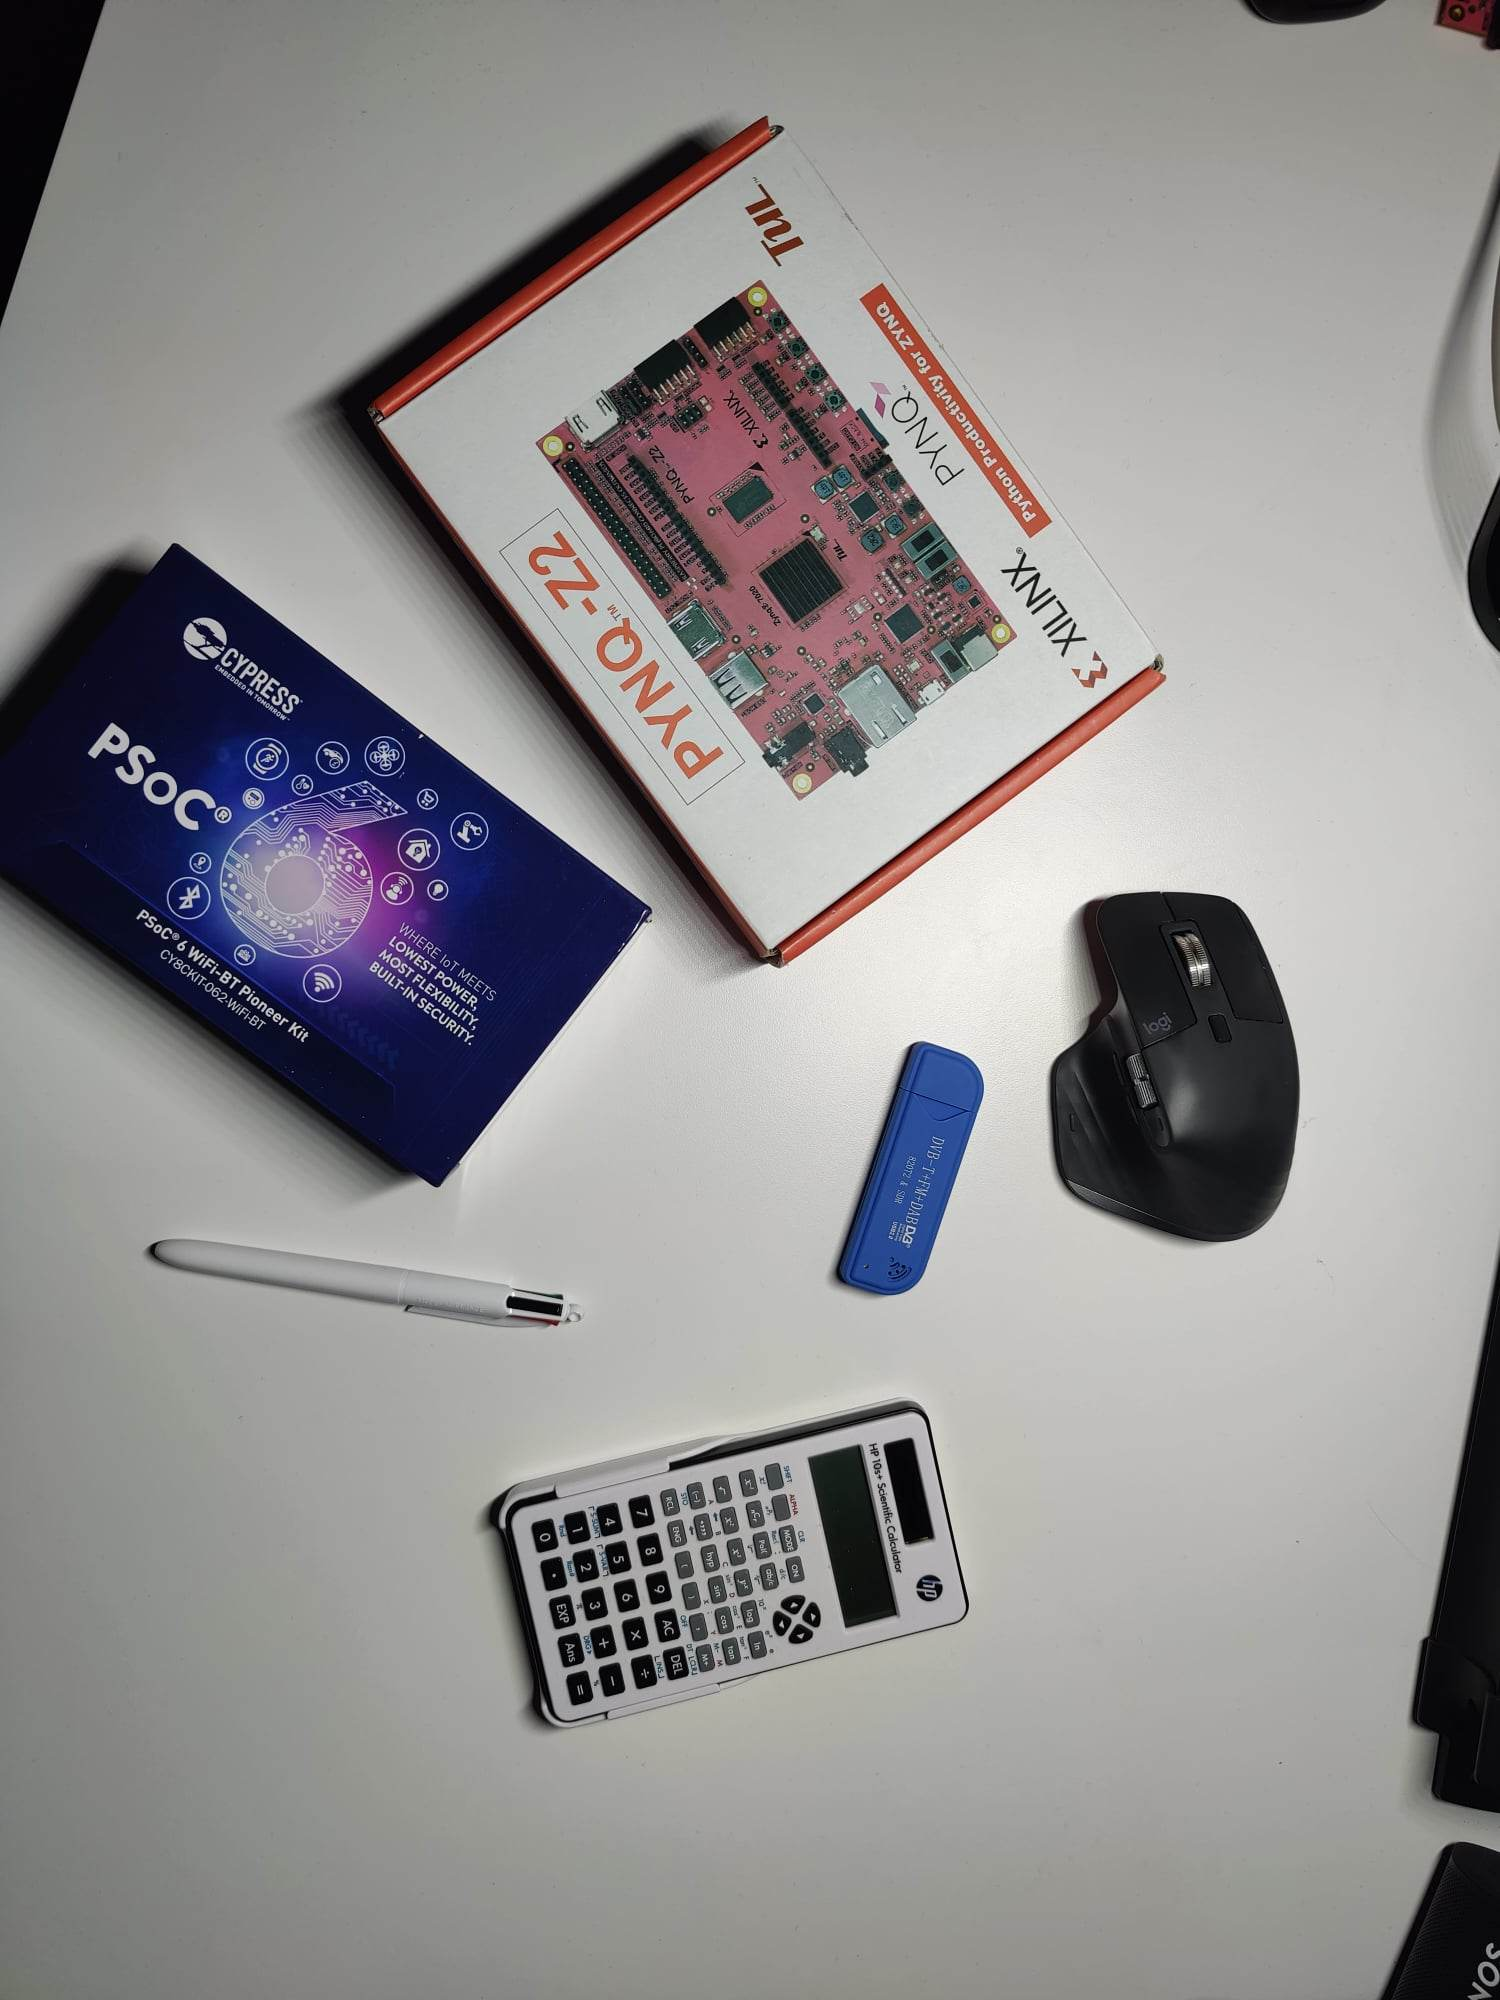DVB: (807, 1013, 1015, 1337)
Muis: (1027, 871, 1328, 1268)
PSoC_6: (0, 521, 678, 1225)
PYNQ doos: (340, 90, 1182, 987)
Pen: (99, 1200, 611, 1359)
Rekenmachine: (436, 1381, 1001, 1759)
